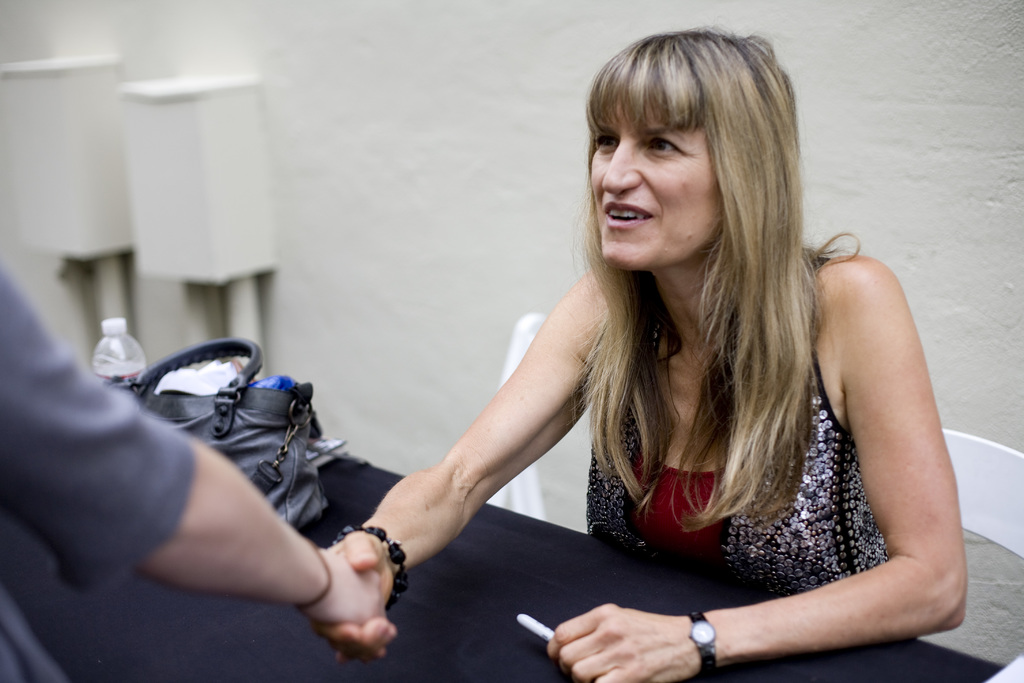Human_hand: (527, 605, 733, 680), (312, 528, 397, 666), (308, 545, 387, 621)
